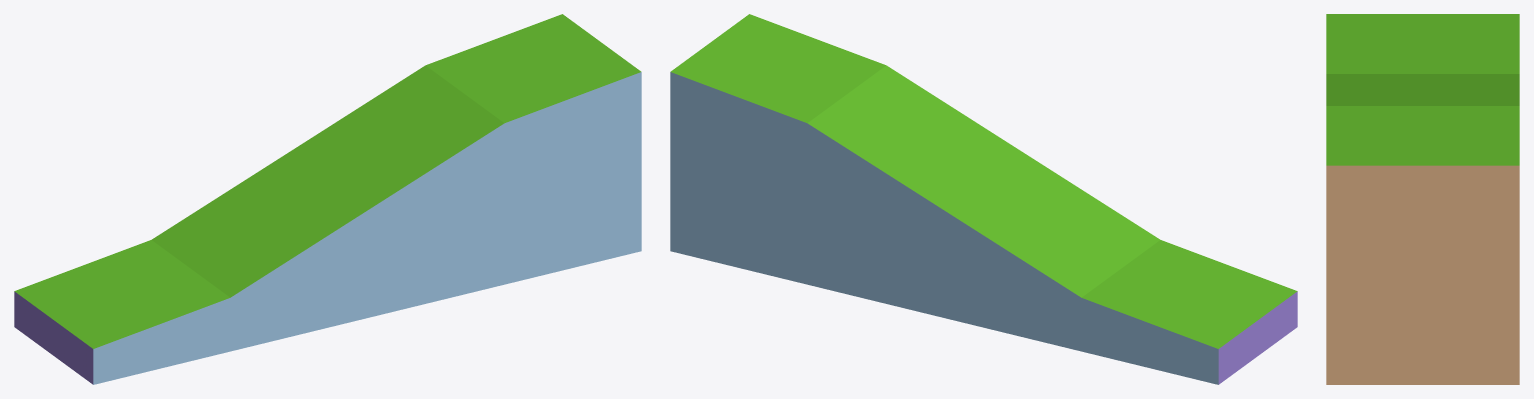
File: Grass_Hill_Gentle_Straight_1x4.glb
3 views of the same model, side by side, from view 1: azimuth 30°, elevation 25°; view 2: azimuth 150°, elevation 25°; view 3: azimuth 270°, elevation 25° (orthographic). The views are drawn at different scales.
Parts seen in each view (by area): view 1: Grass_Hill_Gentle_Straight_1x4; view 2: Grass_Hill_Gentle_Straight_1x4; view 3: Grass_Hill_Gentle_Straight_1x4.
Boxes of the visible parts, x1,y1,x2,y2 form: Grass_Hill_Gentle_Straight_1x4: (14,14,641,384); Grass_Hill_Gentle_Straight_1x4: (670,14,1297,384); Grass_Hill_Gentle_Straight_1x4: (1326,14,1519,384).
Bounding box in the file's own units: 400 × 125 × 100.
